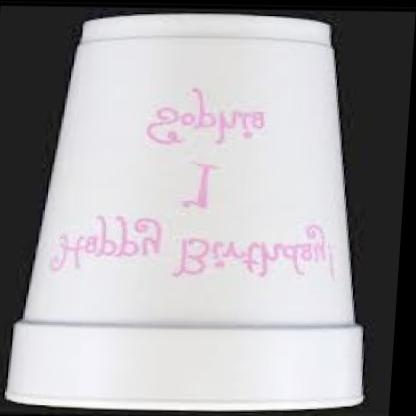trash: (6, 14, 362, 409)
